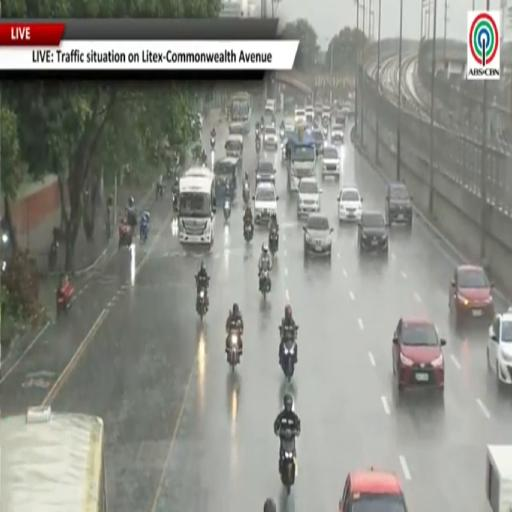bus: (0, 407, 107, 511), (179, 168, 215, 246), (286, 131, 316, 190), (230, 92, 251, 135)
car: (393, 316, 446, 392), (339, 469, 407, 511), (449, 265, 494, 325), (487, 308, 511, 388), (303, 214, 333, 257), (358, 212, 388, 255), (385, 182, 413, 228), (254, 182, 278, 223), (297, 178, 321, 218), (338, 186, 362, 221), (322, 146, 341, 181), (281, 123, 296, 162), (255, 160, 275, 186), (264, 125, 279, 150), (312, 128, 324, 155), (331, 124, 344, 143), (229, 122, 244, 135), (265, 100, 276, 117), (333, 112, 345, 126), (295, 109, 305, 125), (322, 104, 330, 122), (195, 112, 203, 129), (306, 109, 314, 125), (314, 102, 322, 117), (305, 105, 314, 114)
motorcycle: (279, 429, 296, 494), (280, 326, 297, 381), (56, 281, 74, 315), (227, 329, 240, 371), (197, 286, 208, 321), (259, 269, 271, 299), (119, 222, 132, 248), (48, 240, 58, 271), (269, 228, 278, 257), (140, 220, 149, 243), (244, 222, 253, 242), (243, 181, 250, 204), (224, 196, 230, 219), (156, 184, 163, 199), (173, 191, 178, 212), (322, 126, 328, 138), (280, 127, 285, 140), (210, 137, 215, 150), (256, 137, 260, 153)
truck: (485, 445, 512, 512)
